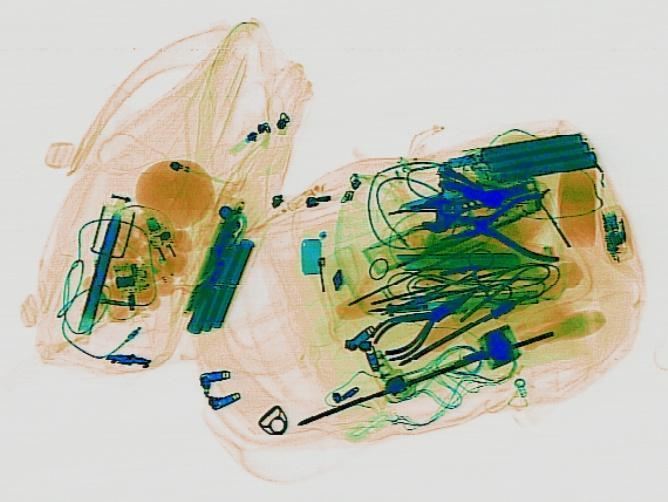Pliers: (354, 276, 492, 365), (433, 193, 558, 265)
Wrench: (405, 172, 547, 235)
